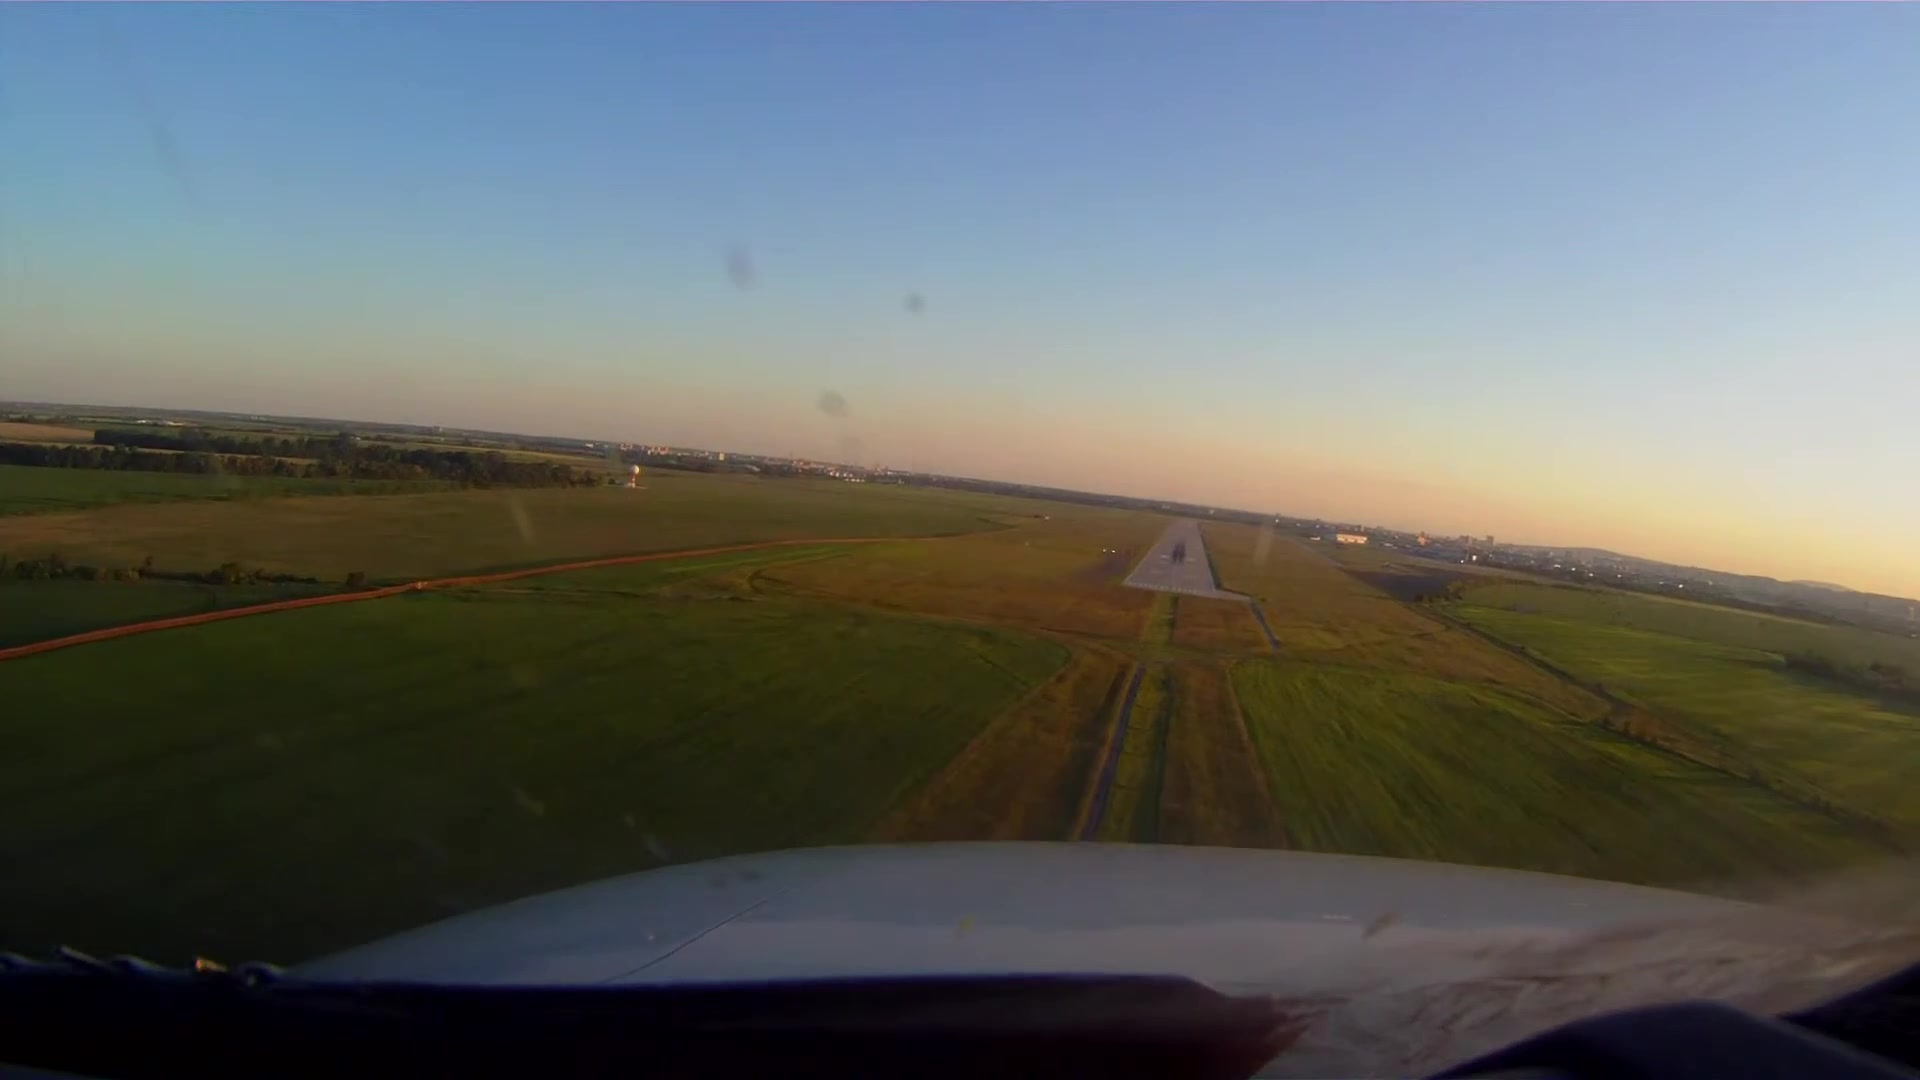entrance: (1126, 579, 1211, 595)
runway: (1120, 514, 1222, 601)
